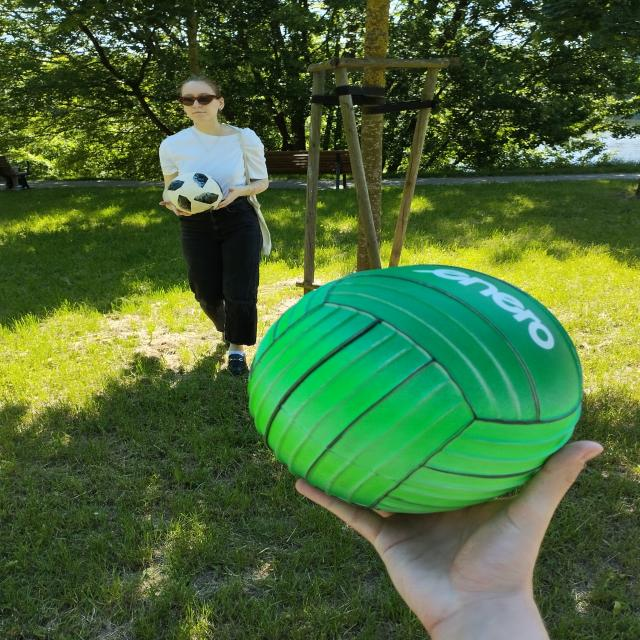nozna: (167, 172, 223, 214)
zielona: (247, 263, 584, 515)
